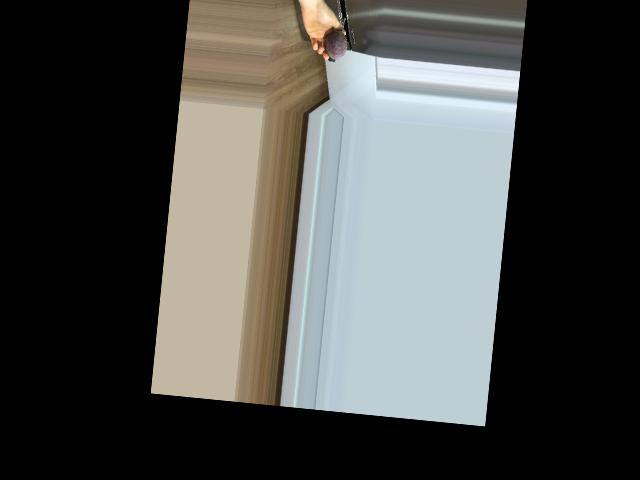beet: (323, 17, 349, 63)
